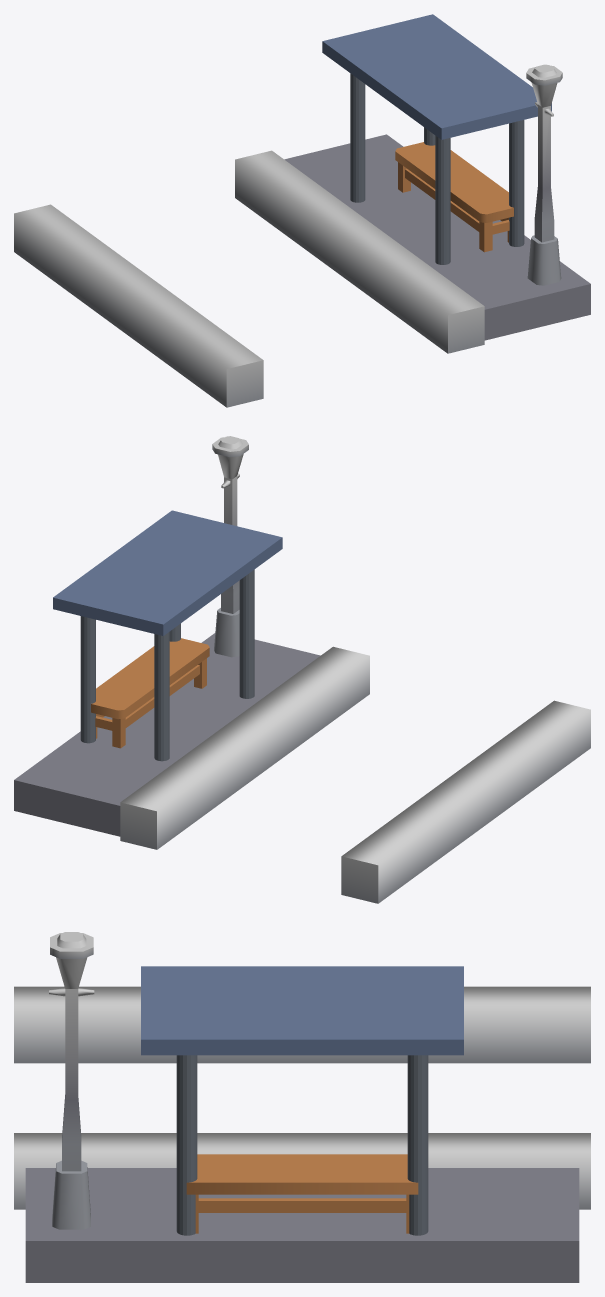
Rendered from tram-stop.glb.
3 renders of one model, top to bottom at view 1: azimuth 30°, elevation 25°; view 2: azimuth 150°, elevation 25°; view 3: azimuth 270°, elevation 25°, orthographic. The views are drawn at different scales.
Visible parts, largest first — view 1: tram-stop; view 2: tram-stop; view 3: tram-stop.
Boxes of the visible parts, x1,y1,x2,y2 form: tram-stop: [14, 14, 590, 407]; tram-stop: [14, 436, 590, 903]; tram-stop: [14, 932, 590, 1282].
Bounding box in the file's own units: 1.01 × 0.6245 × 1.
